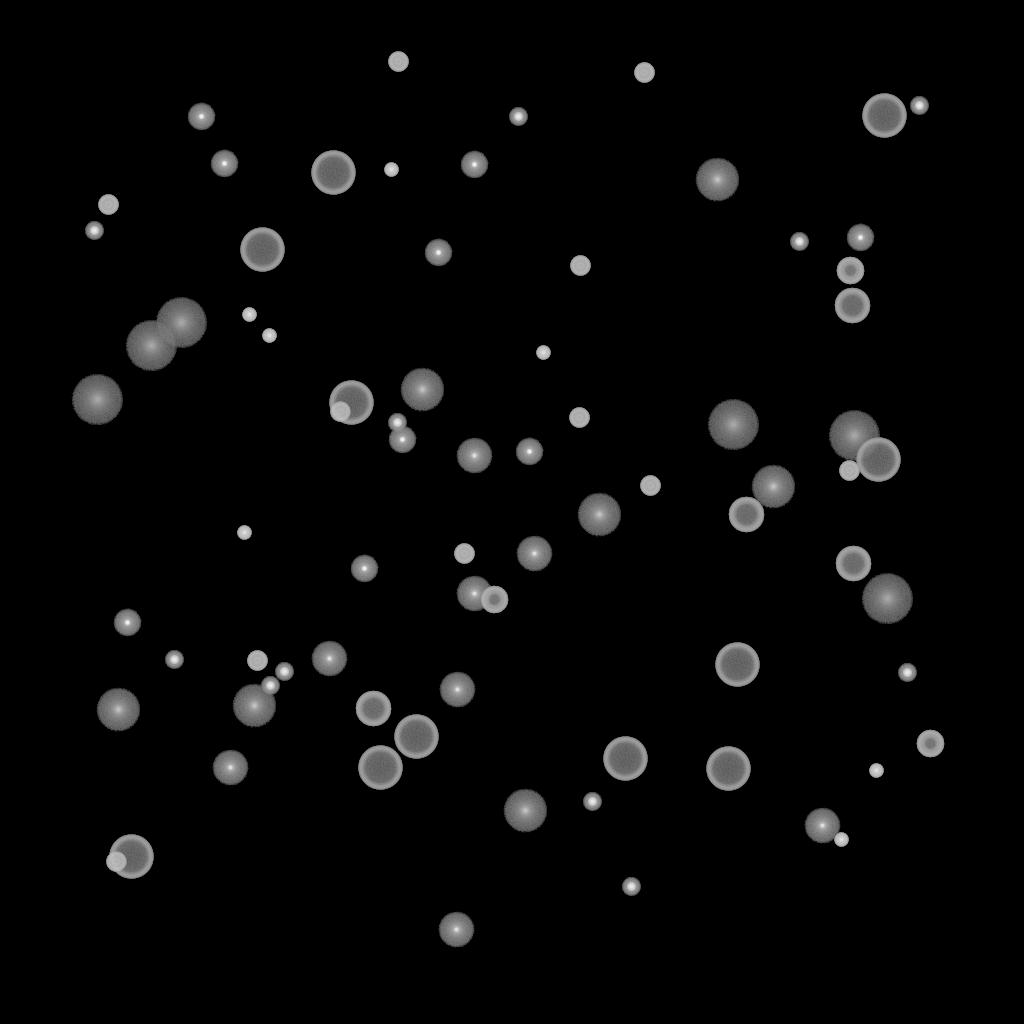depth:-10: (388, 426, 416, 454), (350, 555, 378, 583), (424, 239, 452, 267), (187, 103, 215, 131), (113, 609, 141, 637), (515, 438, 543, 466), (846, 224, 874, 252), (210, 150, 238, 178), (460, 151, 488, 179)
depth:-20: (898, 664, 916, 682), (275, 663, 293, 681), (388, 414, 406, 432), (165, 651, 183, 669), (790, 233, 808, 251), (622, 878, 640, 896), (509, 108, 527, 126), (85, 222, 103, 240), (910, 97, 928, 115), (583, 793, 601, 811), (261, 677, 279, 695)
depth:-30: (384, 163, 398, 177), (834, 833, 848, 847), (242, 308, 256, 322), (262, 329, 276, 343), (869, 764, 883, 778), (237, 526, 251, 540), (536, 346, 550, 360)
depth:-40: (98, 195, 118, 215), (640, 476, 660, 496), (454, 544, 474, 564), (569, 408, 589, 428), (634, 63, 654, 83), (106, 852, 126, 872), (839, 461, 859, 481), (247, 651, 267, 671), (570, 256, 590, 276), (388, 52, 408, 72), (330, 402, 350, 422)
depth:-50: (916, 730, 944, 758), (480, 586, 508, 614), (836, 257, 864, 285)
depth:-60: (834, 288, 870, 324), (355, 691, 391, 727), (728, 497, 764, 533), (835, 546, 871, 582)
depth:-70: (706, 747, 750, 791), (358, 746, 402, 790), (240, 228, 284, 272), (603, 737, 647, 781), (715, 643, 759, 687), (109, 835, 153, 879), (329, 381, 373, 425), (862, 94, 906, 138), (311, 151, 355, 195), (856, 438, 900, 482), (394, 715, 438, 759)
depth:0: (456, 438, 492, 474), (438, 912, 474, 948), (311, 641, 347, 677), (456, 576, 492, 612), (516, 536, 552, 572), (804, 808, 840, 844), (212, 750, 248, 786), (439, 672, 475, 708)
depth:10: (96, 688, 140, 732), (232, 684, 276, 728), (503, 789, 547, 833), (577, 493, 621, 537), (695, 158, 739, 202), (400, 368, 444, 412), (751, 465, 795, 509)
depth:20: (125, 321, 177, 371), (861, 574, 913, 624), (155, 298, 207, 348), (828, 411, 880, 461), (707, 400, 759, 450), (71, 375, 123, 425)
